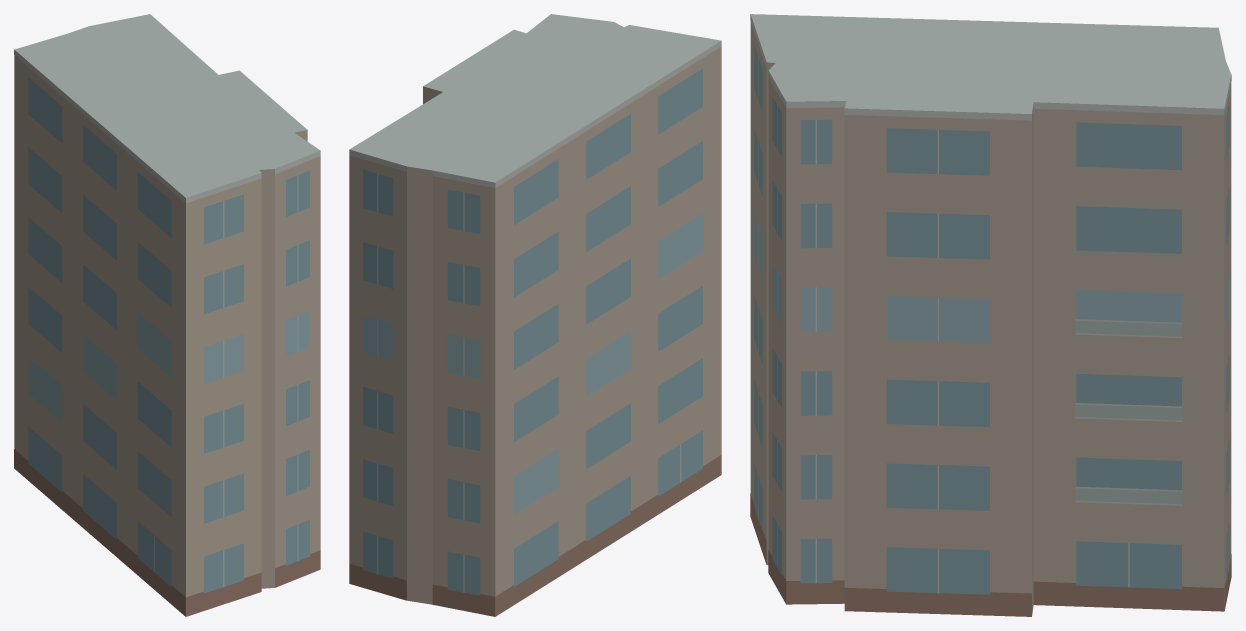
File: survey-upis-32727556.glb
3 views of the same model, side by side, from view 1: azimuth 30°, elevation 25°; view 2: azimuth 150°, elevation 25°; view 3: azimuth 270°, elevation 25° (orthographic). The views are drawn at different scales.
Visible parts, largest first — view 1: survey-upis-32727556.tmp; view 2: survey-upis-32727556.tmp; view 3: survey-upis-32727556.tmp.
Boxes of the visible parts, x1=… form: survey-upis-32727556.tmp: x1=14, y1=14, x2=320, y2=616; survey-upis-32727556.tmp: x1=349, y1=14, x2=721, y2=616; survey-upis-32727556.tmp: x1=750, y1=14, x2=1231, y2=616.
Bounding box in the file's own units: 8.08 × 18.9 × 16.39.
